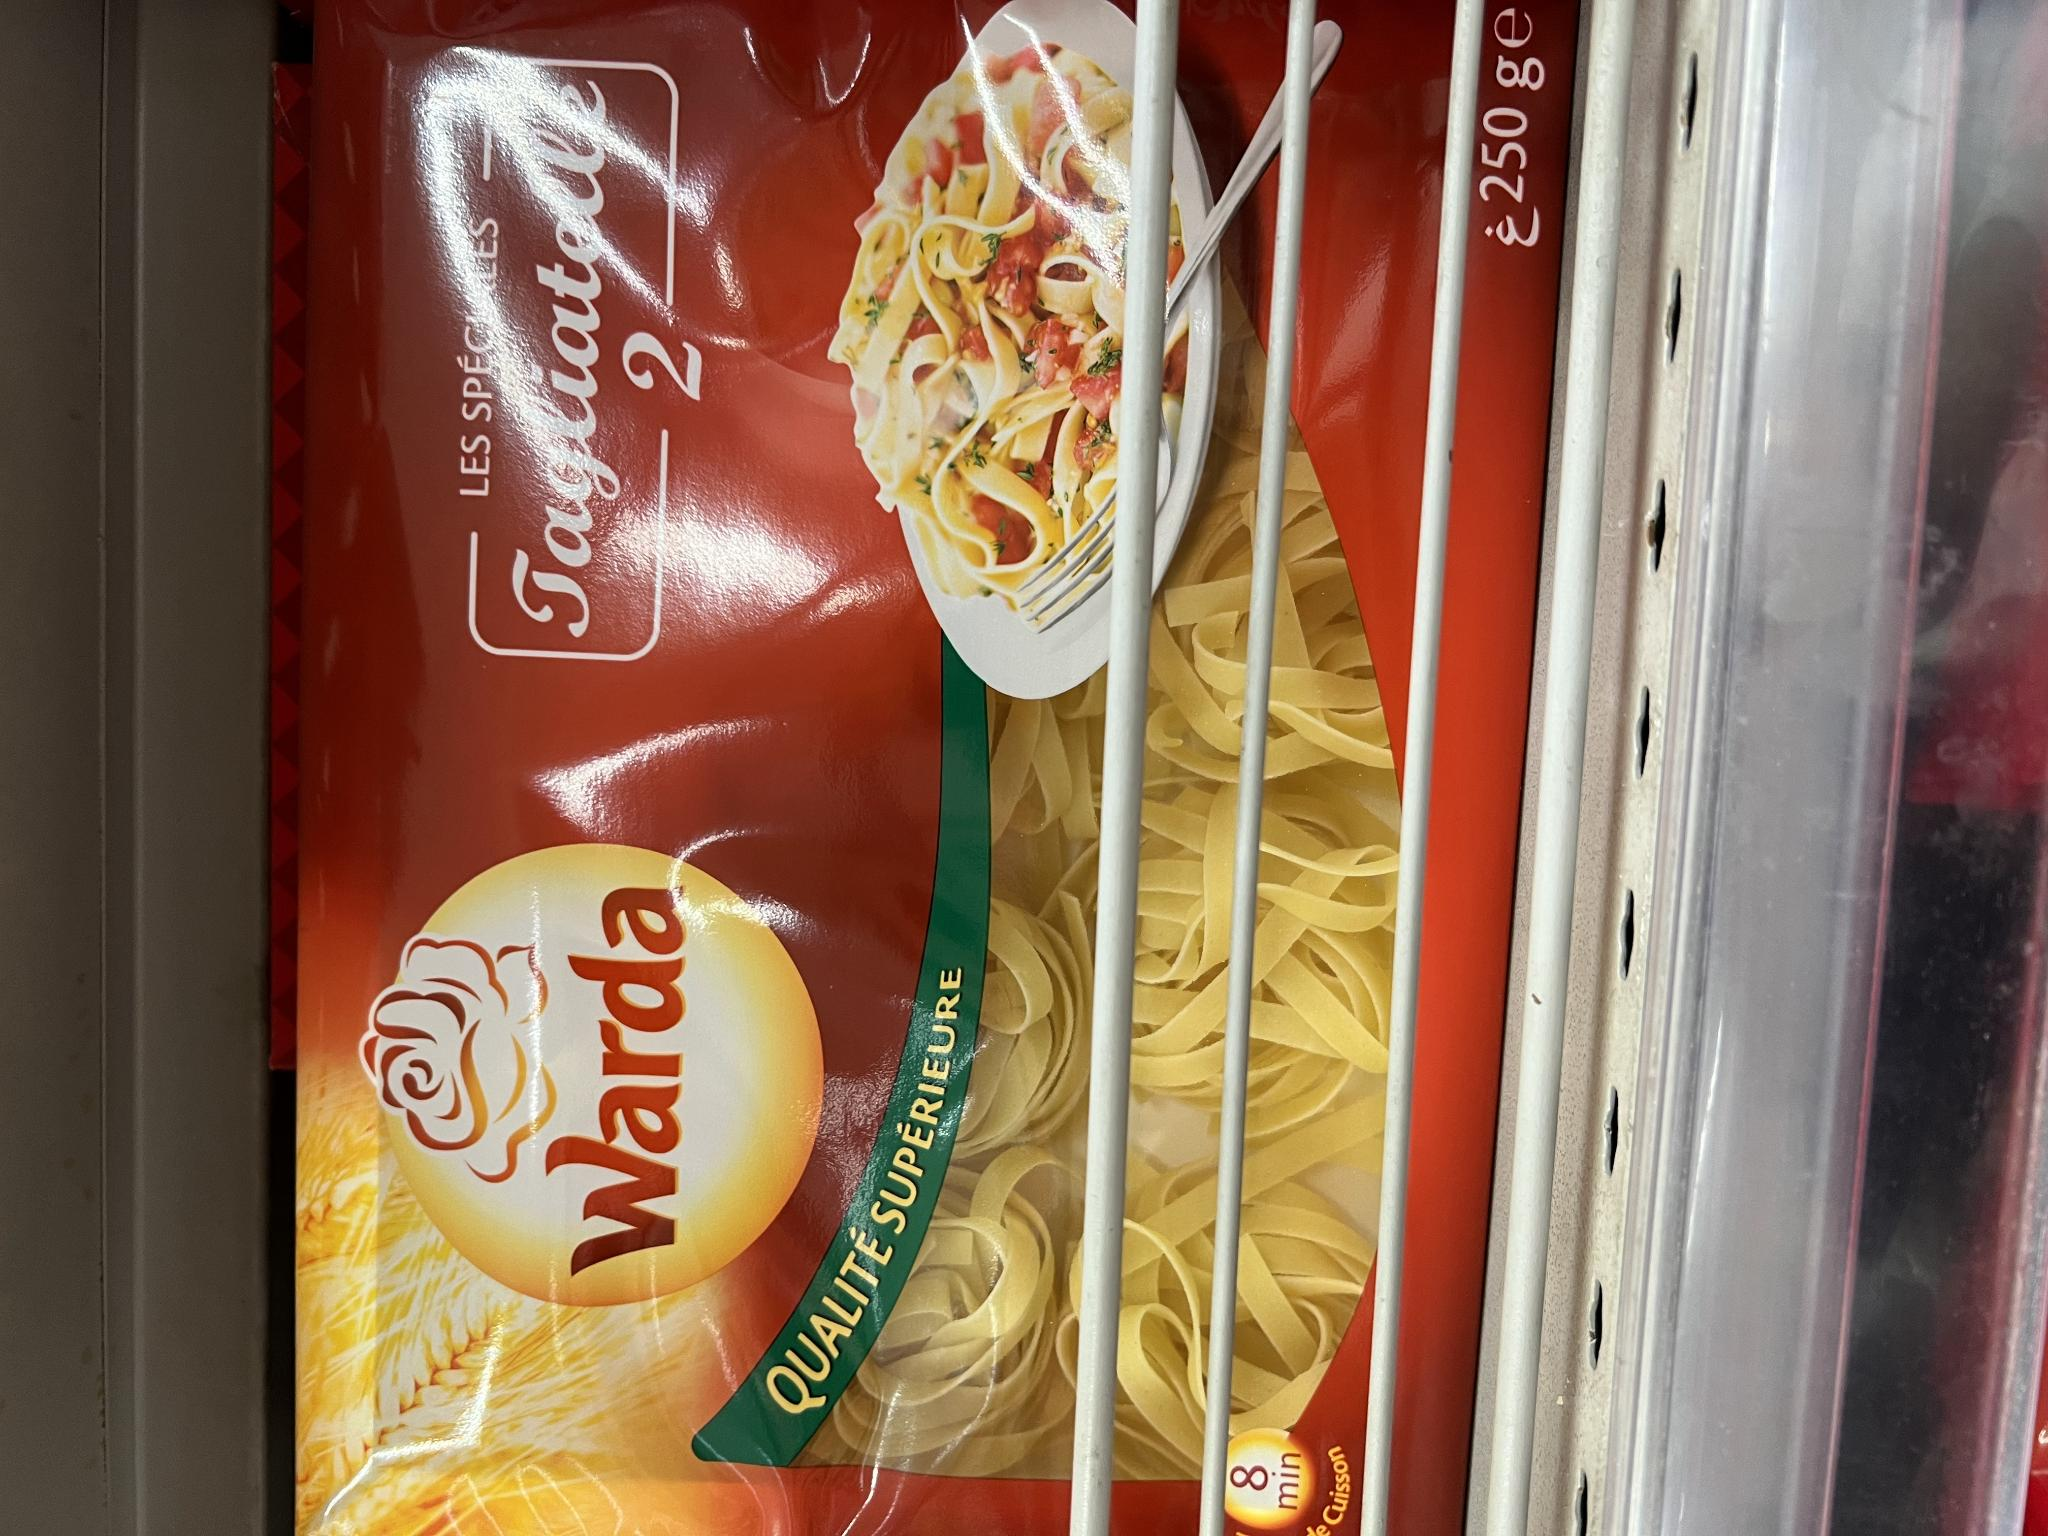Tagliatelle: (300, 42, 1537, 1526)
